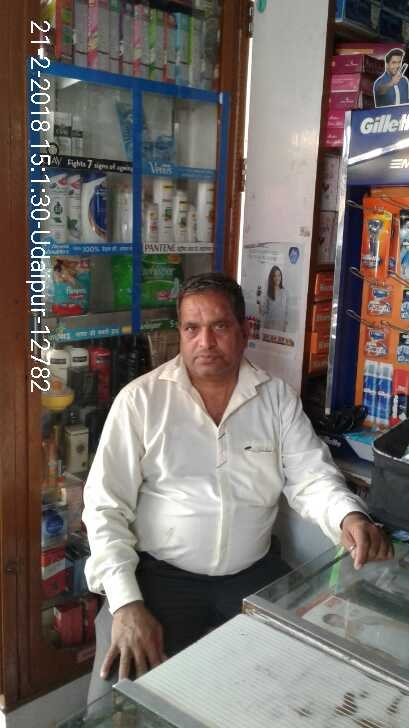venus: (116, 99, 151, 162), (154, 134, 176, 159)
